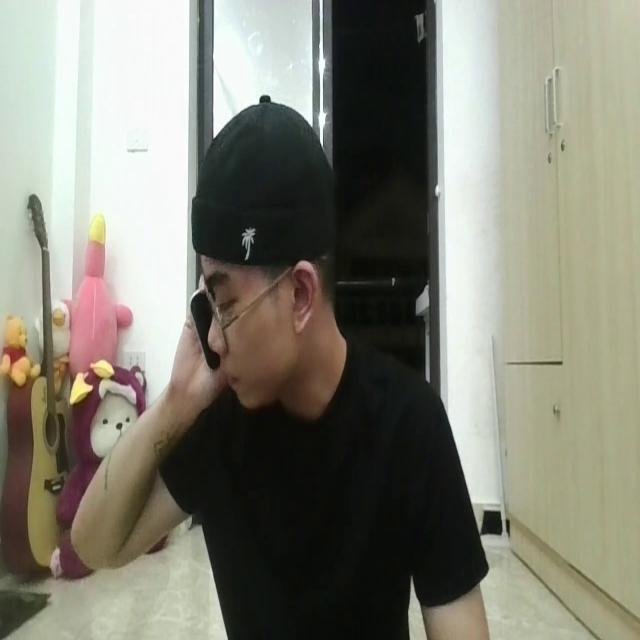phone: (184, 283, 221, 375)
student: (66, 95, 489, 640)
